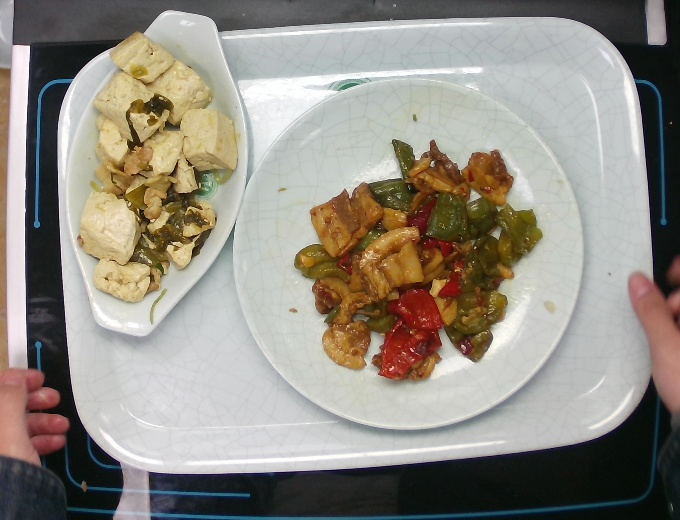JYsf-Da_Yuan_Pan: (231, 75, 586, 432)
JYsf-Yu_Pan: (63, 8, 250, 339)
